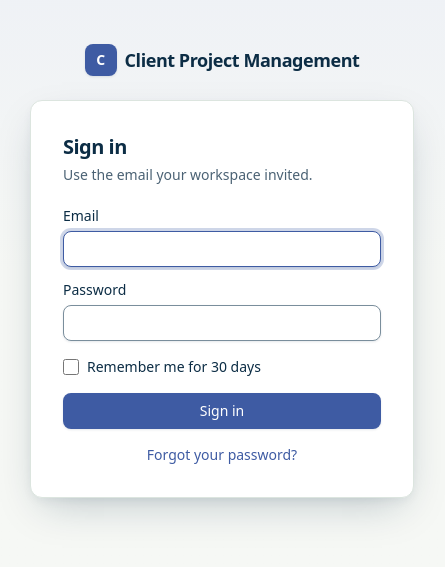
Test: LoginPage › FR-AUTH-03: shows inline errors and sends no request when fields are empty or invalid
Click the button "Sign in".
click(222, 411)  # box [63,393,381,429]
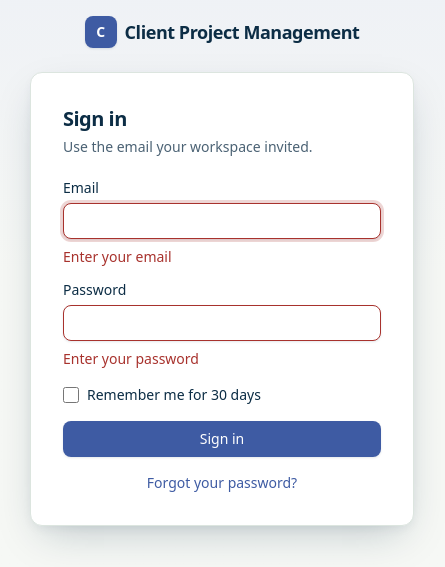
expect the text "Enter your email" is shown: met, box [63,247,172,266]
expect the text "Enter your password" is shown: met, box [63,349,199,368]
Type "not-an-email" into the field labelled "Email".
click(222, 221); type("not-an-email")  # box [63,203,381,239]
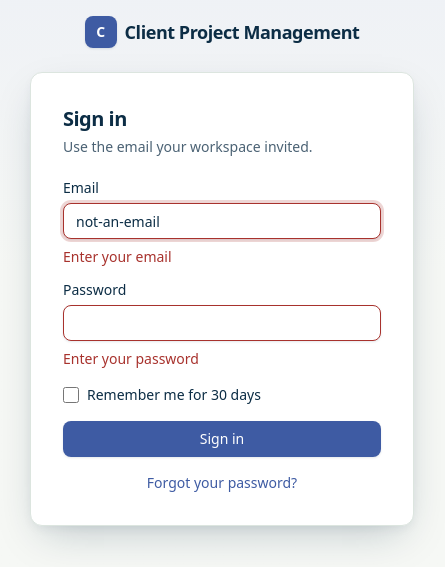
Click the button "Sign in".
click(222, 439)  # box [63,421,381,457]
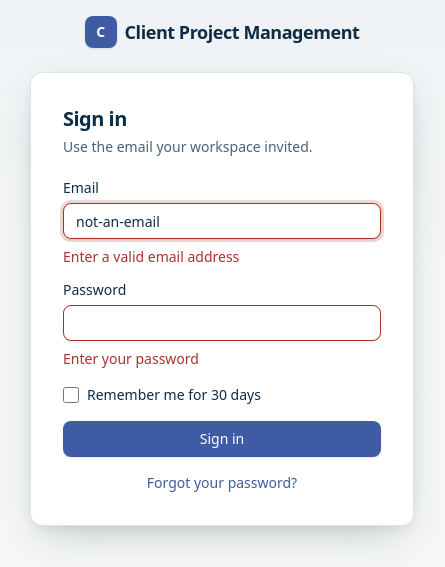
expect the text "Enter a valid email address" is shown: met, box [63,247,239,266]
